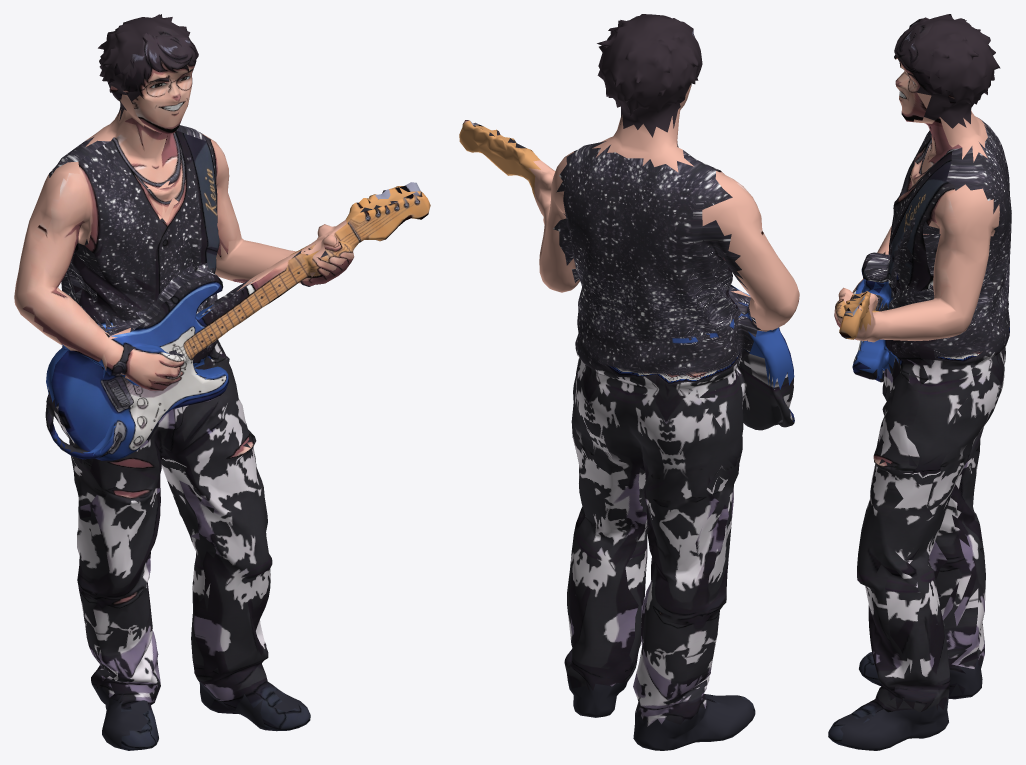
File: kevin_originale.glb
3 views of the same model, side by side, from view 1: azimuth 30°, elevation 25°; view 2: azimuth 150°, elevation 25°; view 3: azimuth 270°, elevation 25° (orthographic). The views are drawn at different scales.
Parts seen in each view (by area): view 1: chitarrista; view 2: chitarrista; view 3: chitarrista.
Part boxes in pixels (x1,y1,x2,y2): chitarrista: (14, 14, 430, 750); chitarrista: (459, 14, 799, 750); chitarrista: (828, 14, 1011, 750).
Size of the model in its own units: 1.09 by 1.96 by 0.4803.
1 material, 1 textured.
